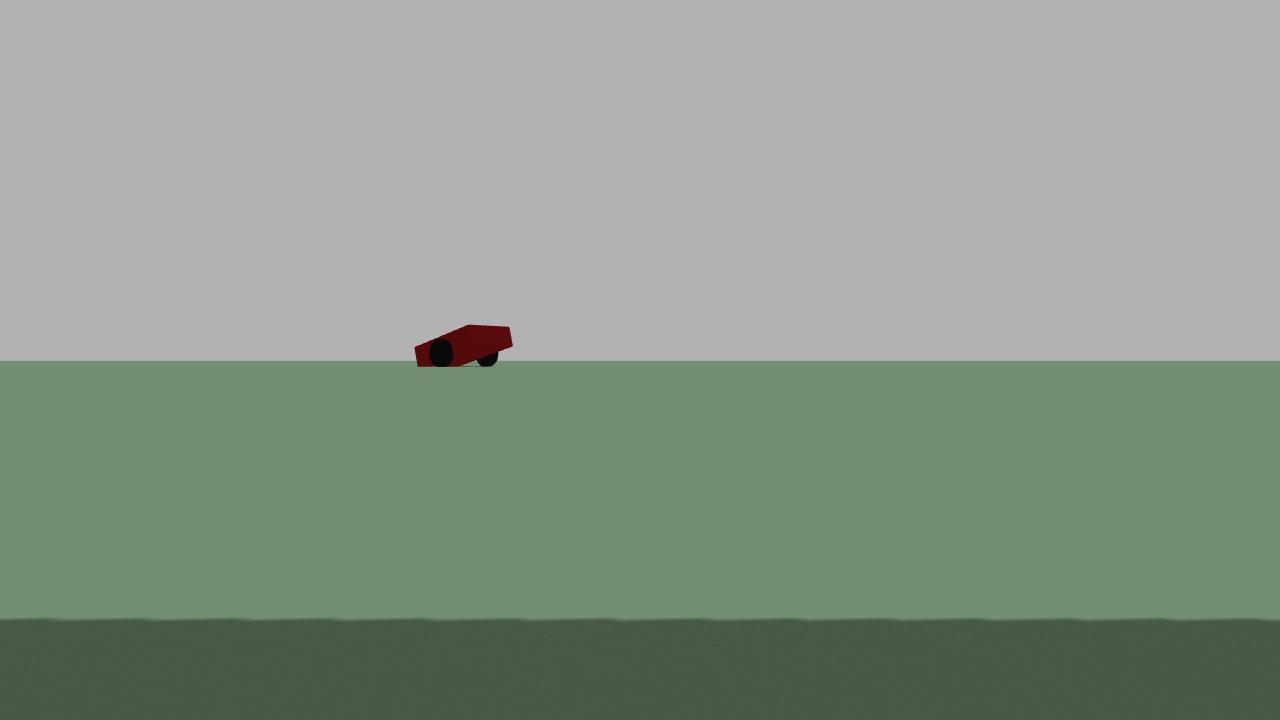ground_vehicle: (407, 314, 517, 374)
